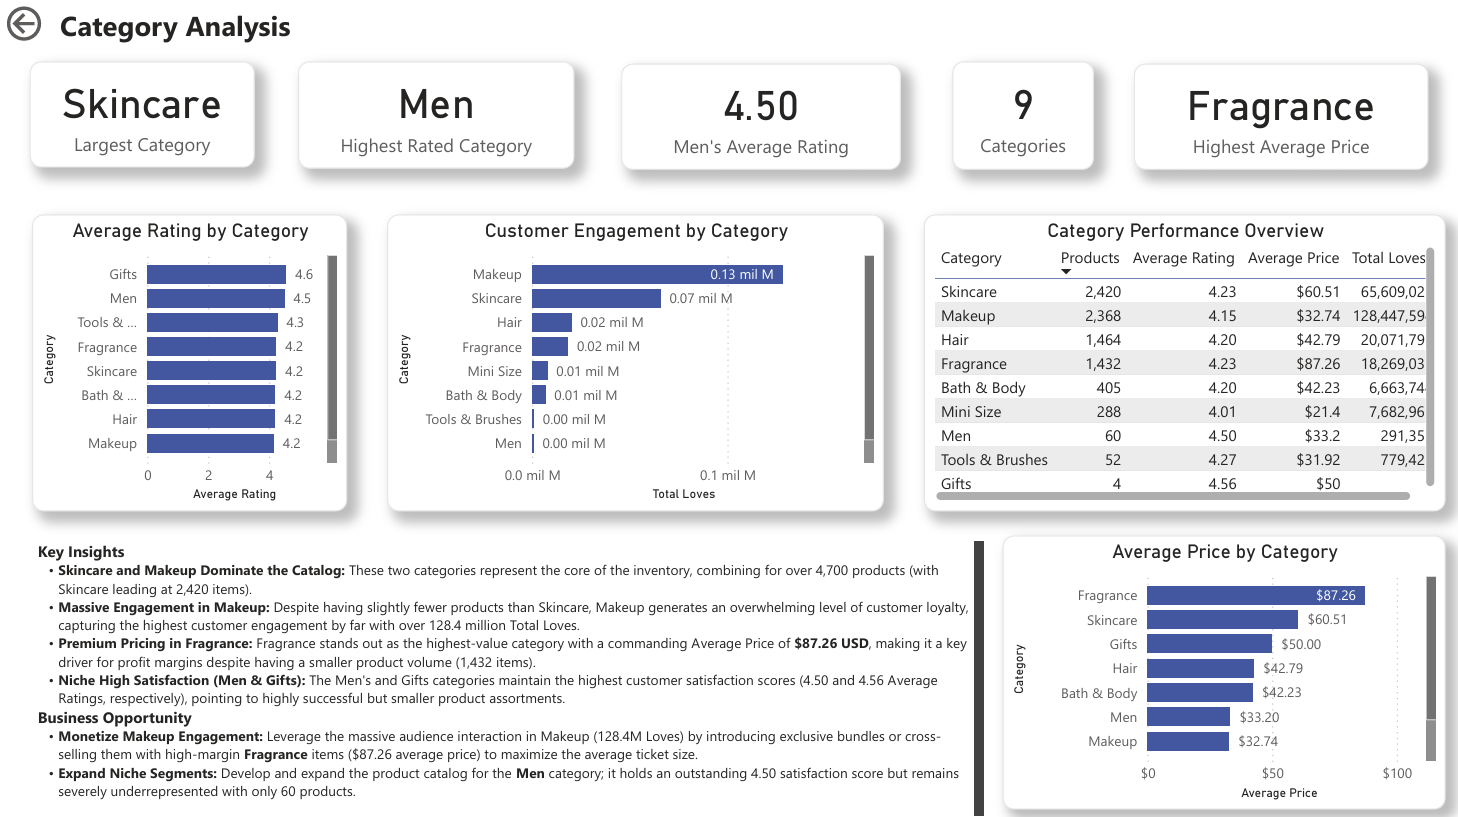

What the dashboard file says about the page in this screenshot:
{"tool":"powerbi","page":{"name":"Category Analysis","canvas":[1280,720],"ordinal":2},"visuals":[{"type":"textbox","box":[26.7,0,1253.3,50],"z":0},{"type":"card","fields":{"Values":["Avg(category_summary.avg_rating)"]},"box":[543.3,55,245,93.3],"z":1000},{"type":"card","fields":{"Values":["Min(category_summary.primary_category)"]},"box":[260,53.3,241.7,93.3],"z":2000},{"type":"card","fields":{"Values":["category_summary.Largest Category"]},"box":[25,52.8,196.7,93.3],"z":3000},{"type":"card","fields":{"Values":["Count(products_engineered.primary_category)"]},"box":[833.3,52.8,123.3,95],"z":4000},{"type":"card","fields":{"Values":["Min(category_summary.primary_category)"]},"box":[991.7,55,258.3,93.3],"z":5000},{"type":"barChart","title":"Average Rating by Category","fields":{"Category":["category_summary.primary_category"],"Y":["Avg(category_summary.avg_rating)"]},"box":[26.7,186.7,276.7,260],"z":6000},{"type":"actionButton","box":[0,0,100,40],"z":7000},{"type":"barChart","title":"Customer Engagement by Category","fields":{"Category":["category_summary.primary_category"],"Y":["Sum(category_summary.total_loves)"]},"box":[338.3,186.7,435,260],"z":8000},{"type":"barChart","title":"Average Price by Category","fields":{"Category":["category_summary.primary_category"],"Y":["Sum(category_summary.avg_price)"]},"box":[876.7,468.3,388.3,240],"z":9000},{"type":"tableEx","title":"Category Performance Overview","fields":{"Values":["category_summary.primary_category","category_summary.products","category_summary.avg_rating","category_summary.avg_price","category_summary.total_loves"]},"box":[808.3,186.7,456.7,260],"z":10000},{"type":"textbox","box":[26.7,468.3,838.3,251.7],"z":11000}]}

Visuals, with their boxes in screenshot pixels (x1, y1, x2, y2), scaled from the page's 1280x720 canvas onto the 1458x817 screenshot:
textbox: [30,0,1457,57]
card - Avg(category_summary.avg_rating): [619,62,898,168]
card - Min(category_summary.primary_category): [296,60,571,166]
card - category_summary.Largest Category: [28,60,253,166]
card - Count(products_engineered.primary_category): [949,60,1090,168]
card - Min(category_summary.primary_category): [1130,62,1424,168]
"Average Rating by Category" barChart: [30,212,346,507]
actionButton: [0,0,114,45]
"Customer Engagement by Category" barChart: [385,212,881,507]
"Average Price by Category" barChart: [999,531,1441,804]
"Category Performance Overview" tableEx: [921,212,1441,507]
textbox: [30,531,985,816]
